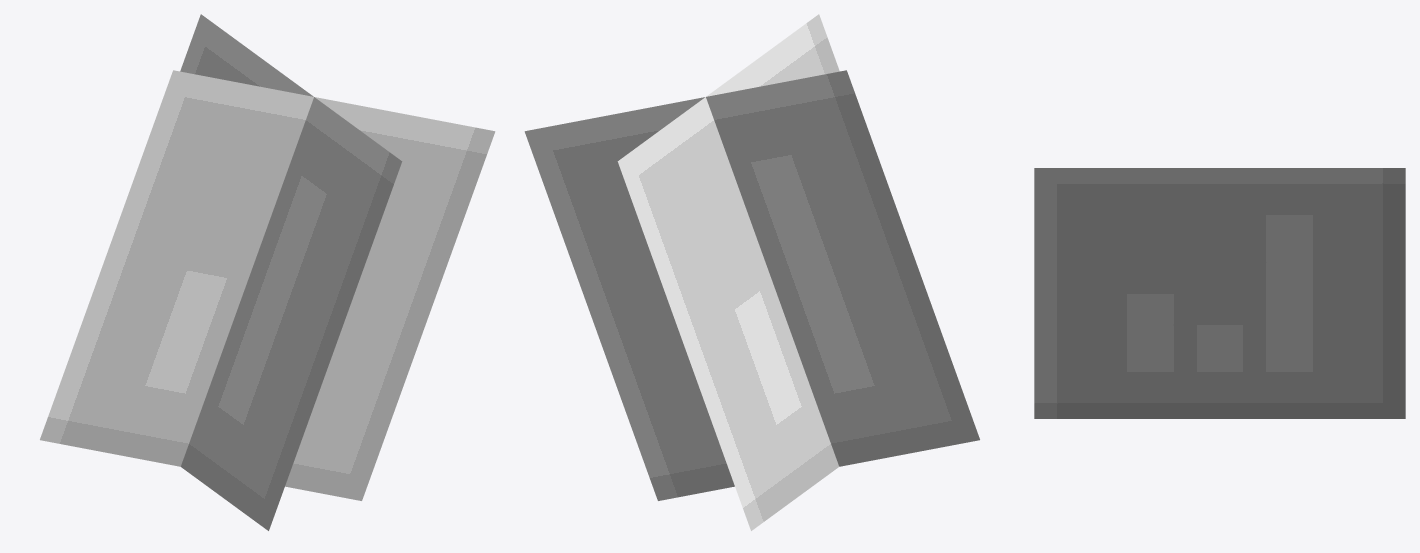
The model's file is block_template_torch_wall.gltf.
3 renders of one model, left to right at view 1: azimuth 30°, elevation 25°; view 2: azimuth 150°, elevation 25°; view 3: azimuth 270°, elevation 25°, orthographic. The views are drawn at different scales.
Parts seen in each view (by area): view 1: cube (×2); view 2: cube (×2); view 3: cube.
Part boxes in pixels (box(x1,y1,x2,y2)): cube (×2): box(40, 14, 495, 530); cube (×2): box(524, 14, 979, 530); cube: box(1034, 168, 1405, 418).
Bounding box in the file's own units: 1.31 × 1.31 × 1.
1 material, 1 textured.
